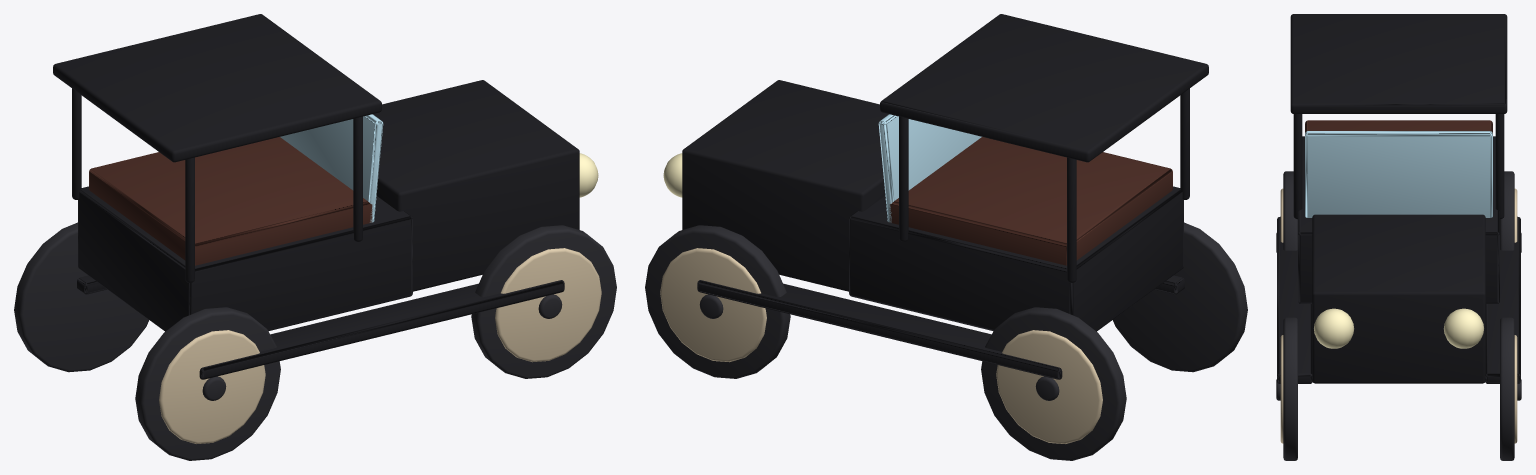
The model's file is carro_antigo.glb.
3 renders of one model, left to right at view 1: azimuth 30°, elevation 25°; view 2: azimuth 150°, elevation 25°; view 3: azimuth 270°, elevation 25°, orthographic. The views are drawn at different scales.
Parts seen in each view (by area): view 1: carro_antigo, wheelz_TD, wheelz_FD, wheelz_TE; view 2: carro_antigo, wheelz_TE, wheelz_FE, wheelz_TD; view 3: carro_antigo, wheelz_FE, wheelz_FD, wheelz_TE, wheelz_TD.
Part boxes in pixels (x1,y1,x2,y2): carro_antigo: (53,14,598,379); wheelz_TD: (135,307,280,460); wheelz_FD: (471,225,616,378); wheelz_TE: (14,222,148,372); carro_antigo: (663,14,1208,379); wheelz_TE: (981,307,1126,460); wheelz_FE: (645,225,790,378); wheelz_TD: (1113,222,1247,372); carro_antigo: (1277,14,1520,383); wheelz_FE: (1500,317,1521,460); wheelz_FD: (1276,317,1297,460); wheelz_TE: (1500,171,1521,252); wheelz_TD: (1276,171,1297,252).
Size of the model in its own units: 3.44 by 2.14 by 1.7.
